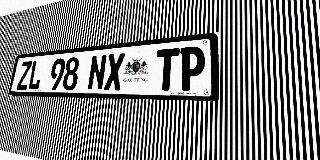8: (62, 57, 81, 90)
9: (48, 58, 66, 90)
L: (27, 60, 44, 90)
N: (87, 54, 107, 90)
P: (179, 46, 205, 91)
T: (155, 48, 180, 91)
X: (104, 53, 125, 91)
Z: (16, 61, 32, 90)
